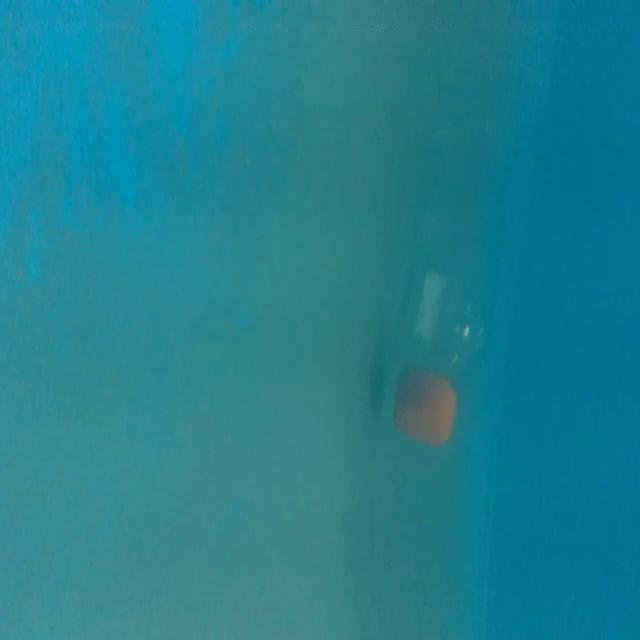plastic bottle: (384, 73, 522, 451)
